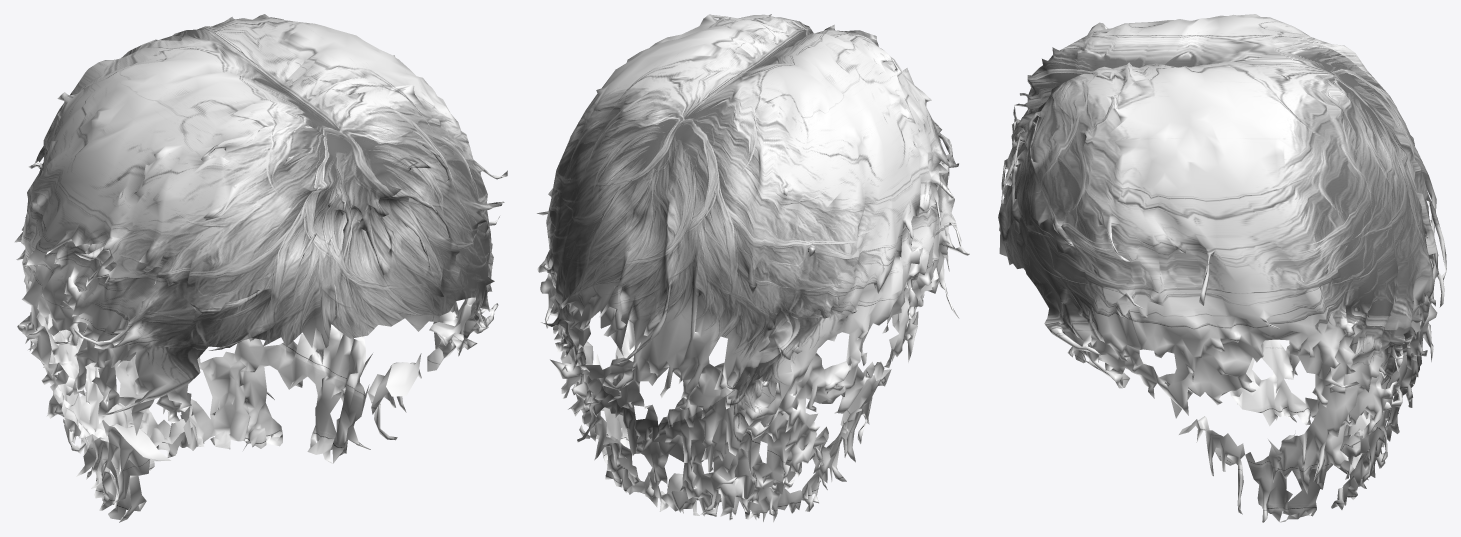
The model's file is hair_messy.glb.
The picture shows the model from 3 angles, left to right: view 1: azimuth 30°, elevation 25°; view 2: azimuth 150°, elevation 25°; view 3: azimuth 270°, elevation 25°; orthographic projection. The views are drawn at different scales.
Visible parts, largest first — view 1: hair; view 2: hair; view 3: hair.
Boxes of the visible parts, box(x1,y1,x2,y2) form: hair: box(14, 14, 507, 522); hair: box(537, 14, 969, 522); hair: box(998, 14, 1446, 522).
Bounding box in the file's own units: 0.2929 × 0.3045 × 0.2905.
1 material, 1 textured.
